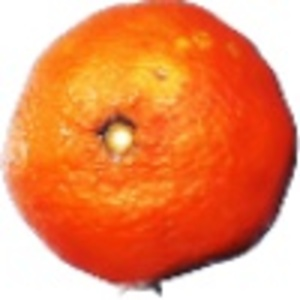tangerina: (1, 1, 300, 294)
